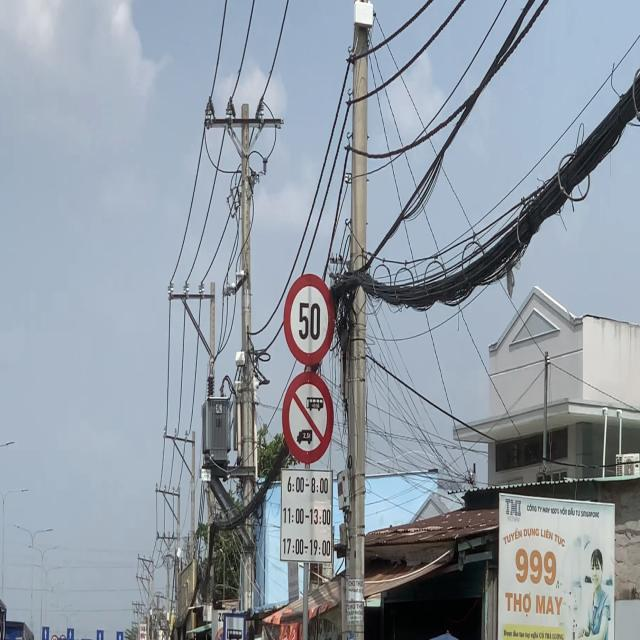Cam con lai: (280, 369, 336, 464)
Toc do toi da: (282, 274, 334, 367)
